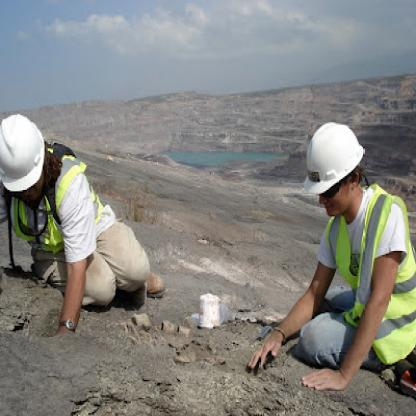person: (236, 87, 415, 398), (0, 102, 166, 360)
